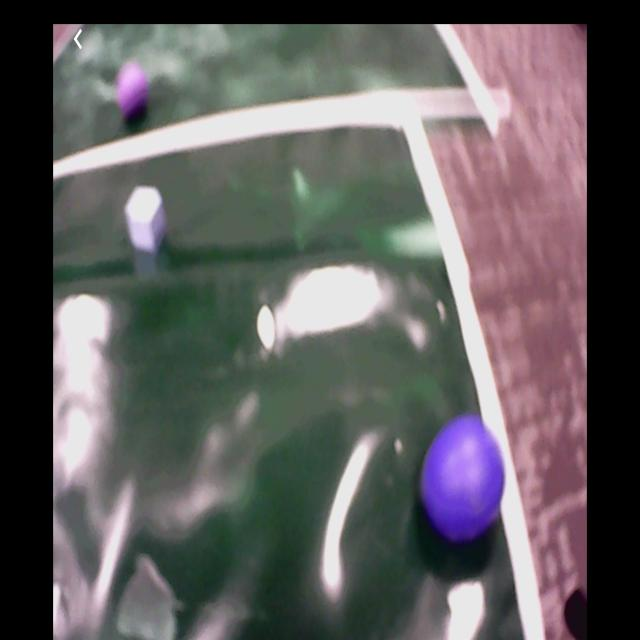ball: (423, 418, 506, 538), (117, 66, 151, 121)
